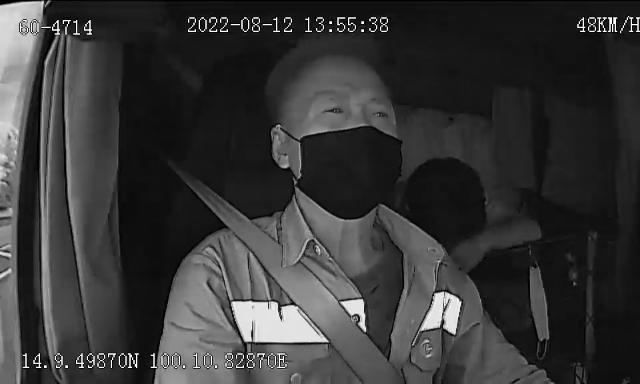SafeDriving: (316, 98, 350, 120), (364, 102, 396, 124)
Seatbelt: (177, 168, 411, 384)
